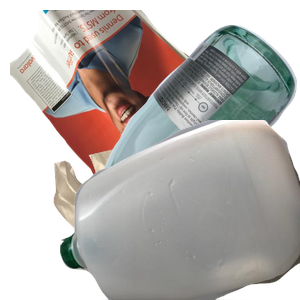glass: (86, 22, 300, 202)
paper: (10, 10, 250, 190)
plastic: (60, 120, 300, 300)
trash: (51, 142, 278, 300)
